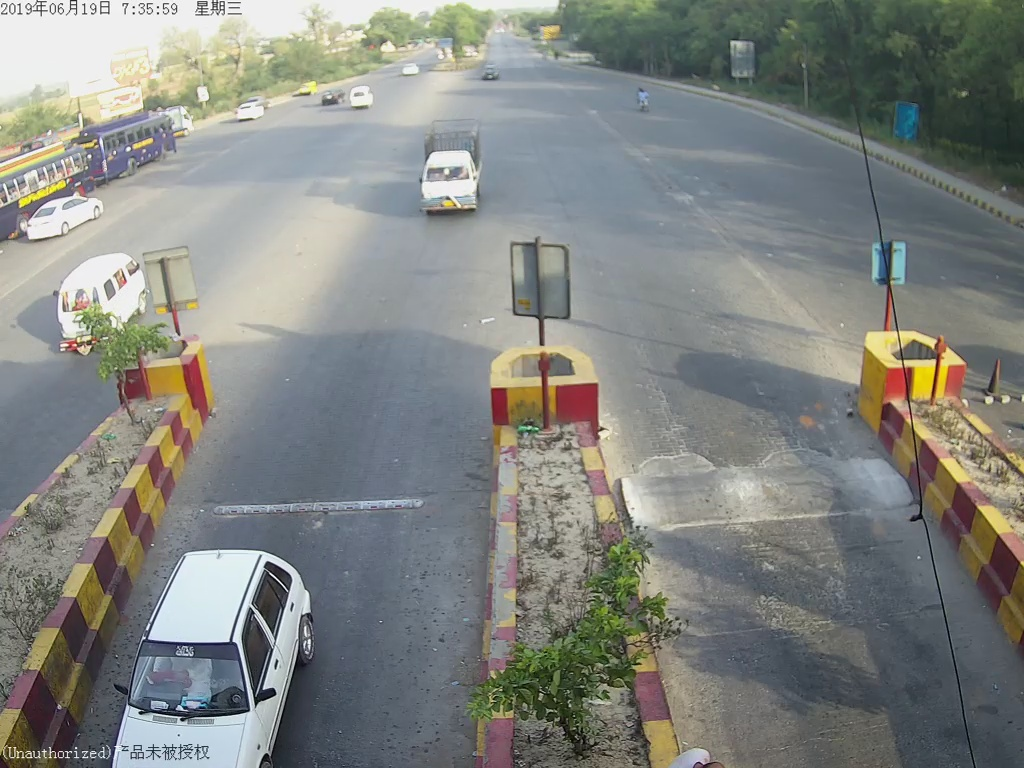Cat-2: (412, 124, 492, 213)
